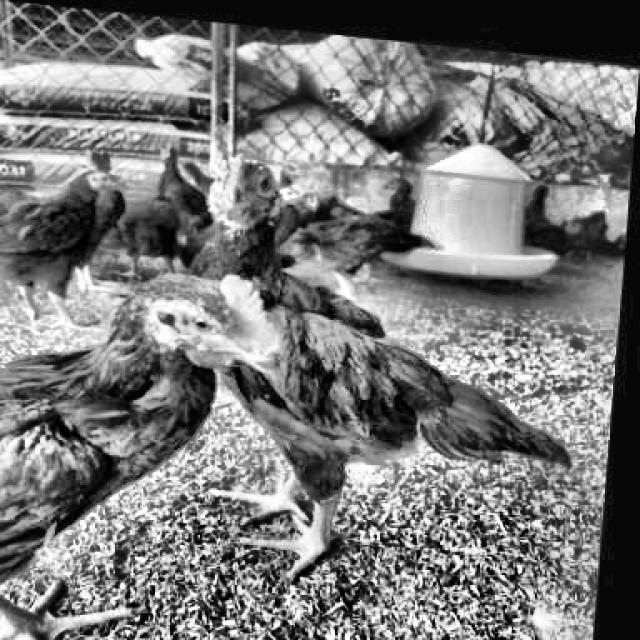Healthy: (180, 308, 238, 335)
